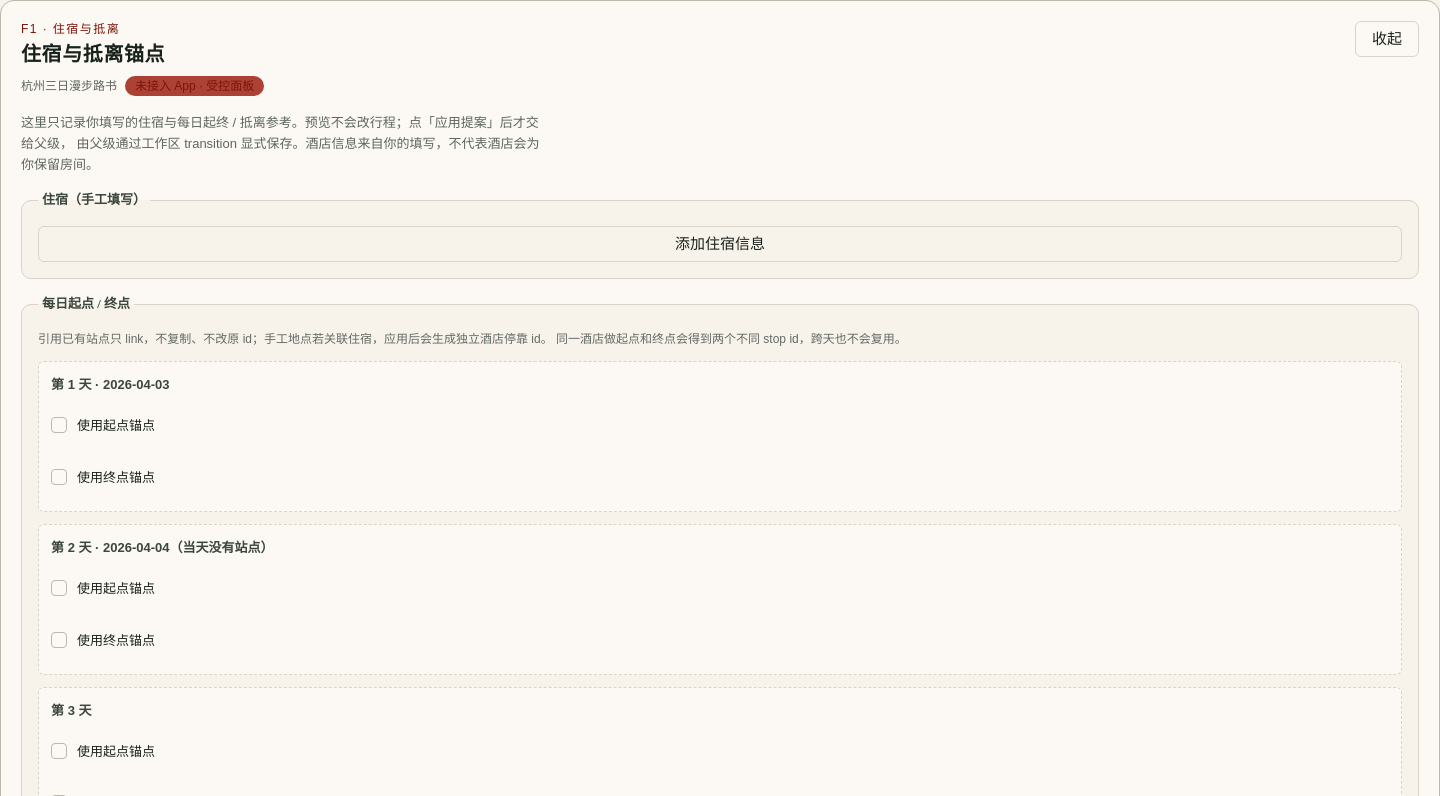
AnchorsPanel：预览 / 应用 / 取消 › 修改输入后旧预览清空，应用按钮重新禁用
This screenshot has width=1440, height=796.
Click the button "添加住宿信息" at (720, 244), box [38,226,1402,262]
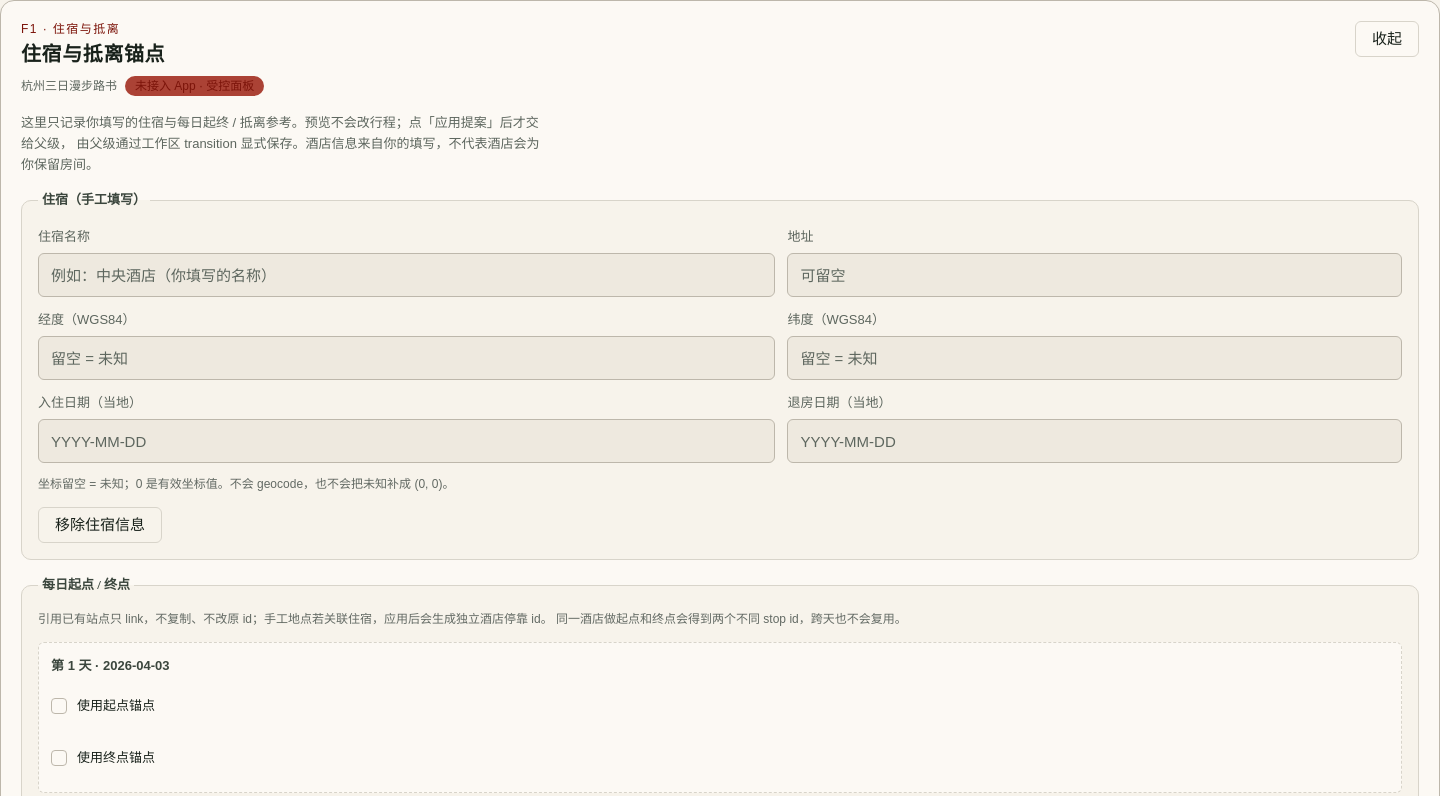
Type "中央酒店" into the field labelled "住宿名称" at (407, 275), box [38,253,776,297]
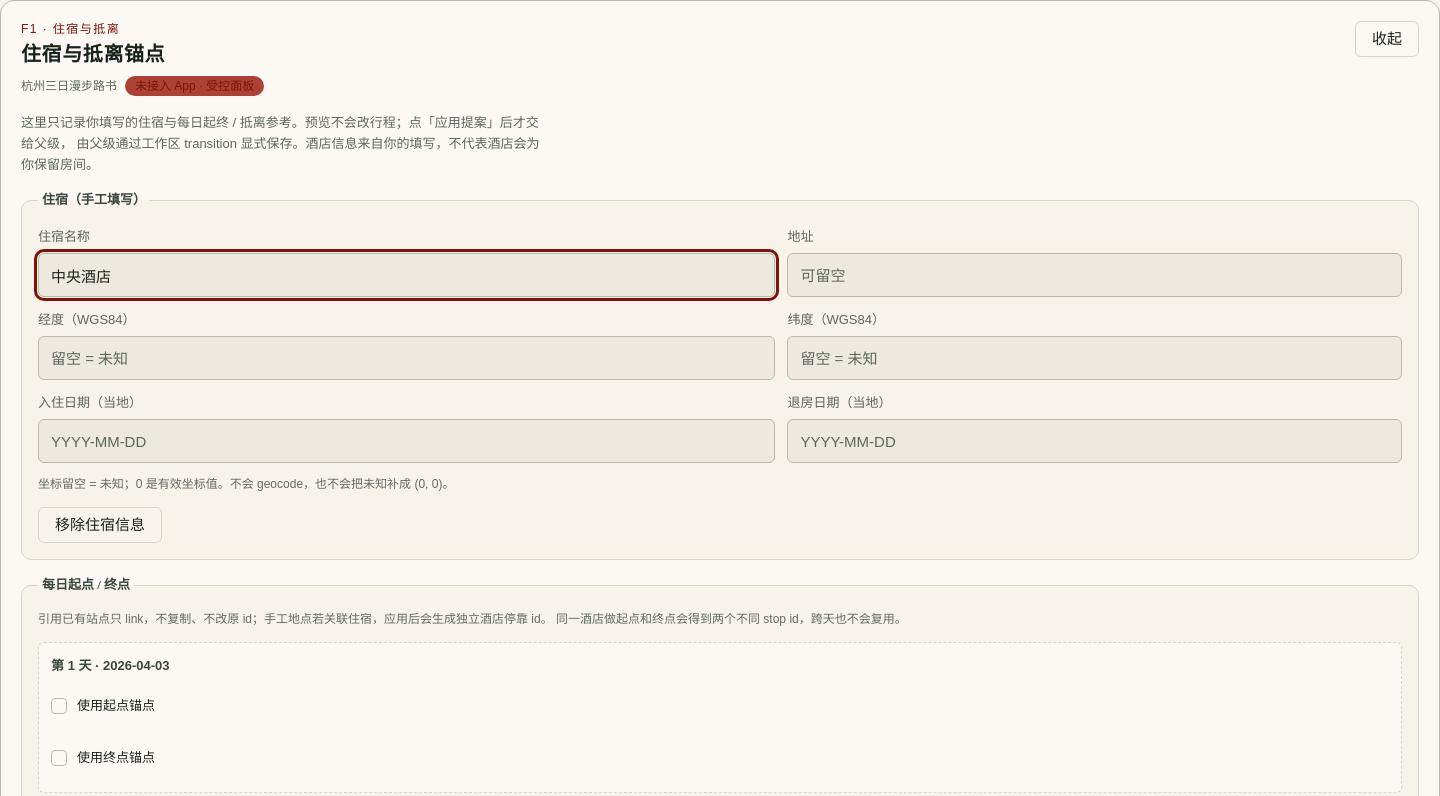
Type "2026-04-03" into the field labelled "入住日期（当地）" at (407, 441), box [38,419,776,463]
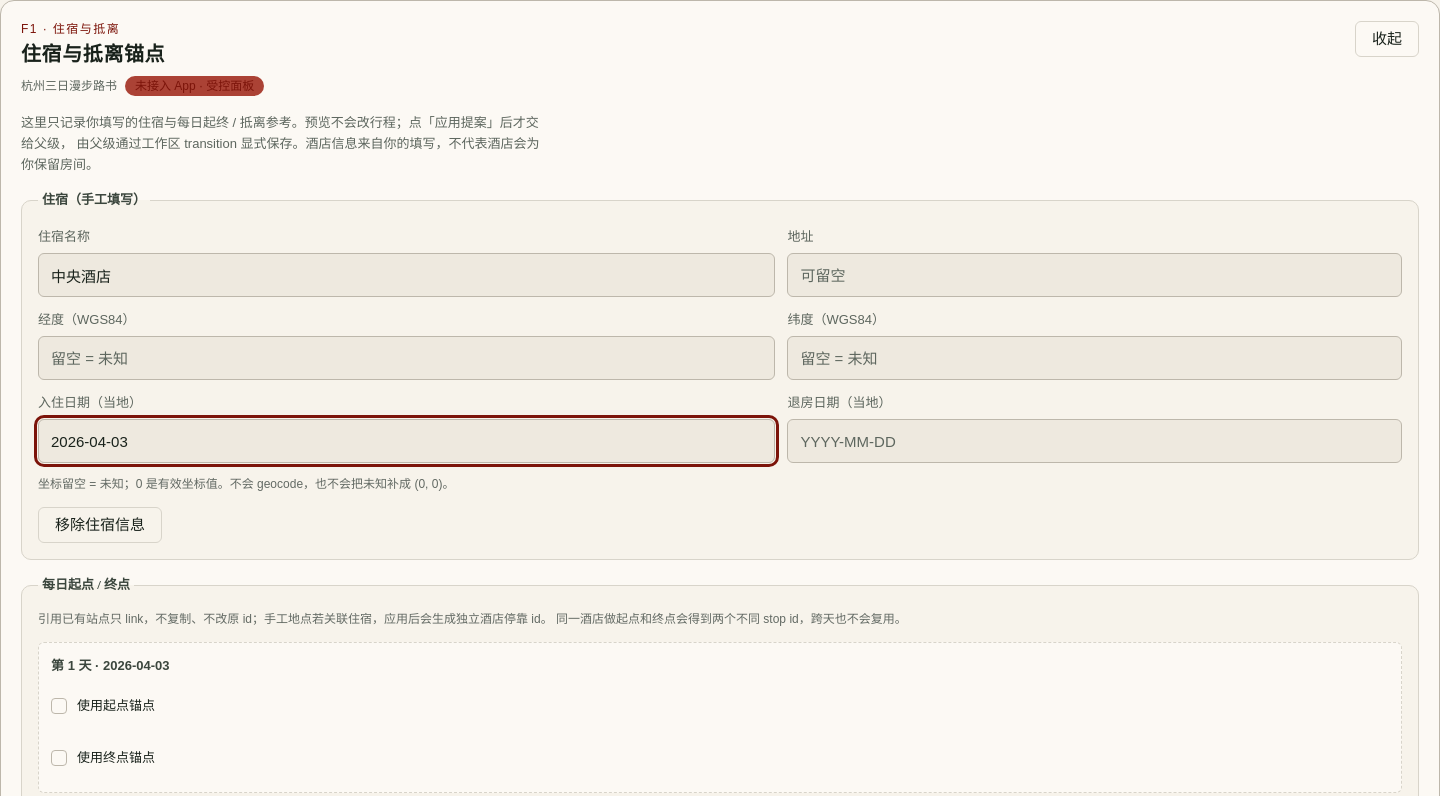
Type "2026-04-05" into the field labelled "退房日期（当地）" at (1095, 441), box [788,419,1402,463]
(page scrolled)
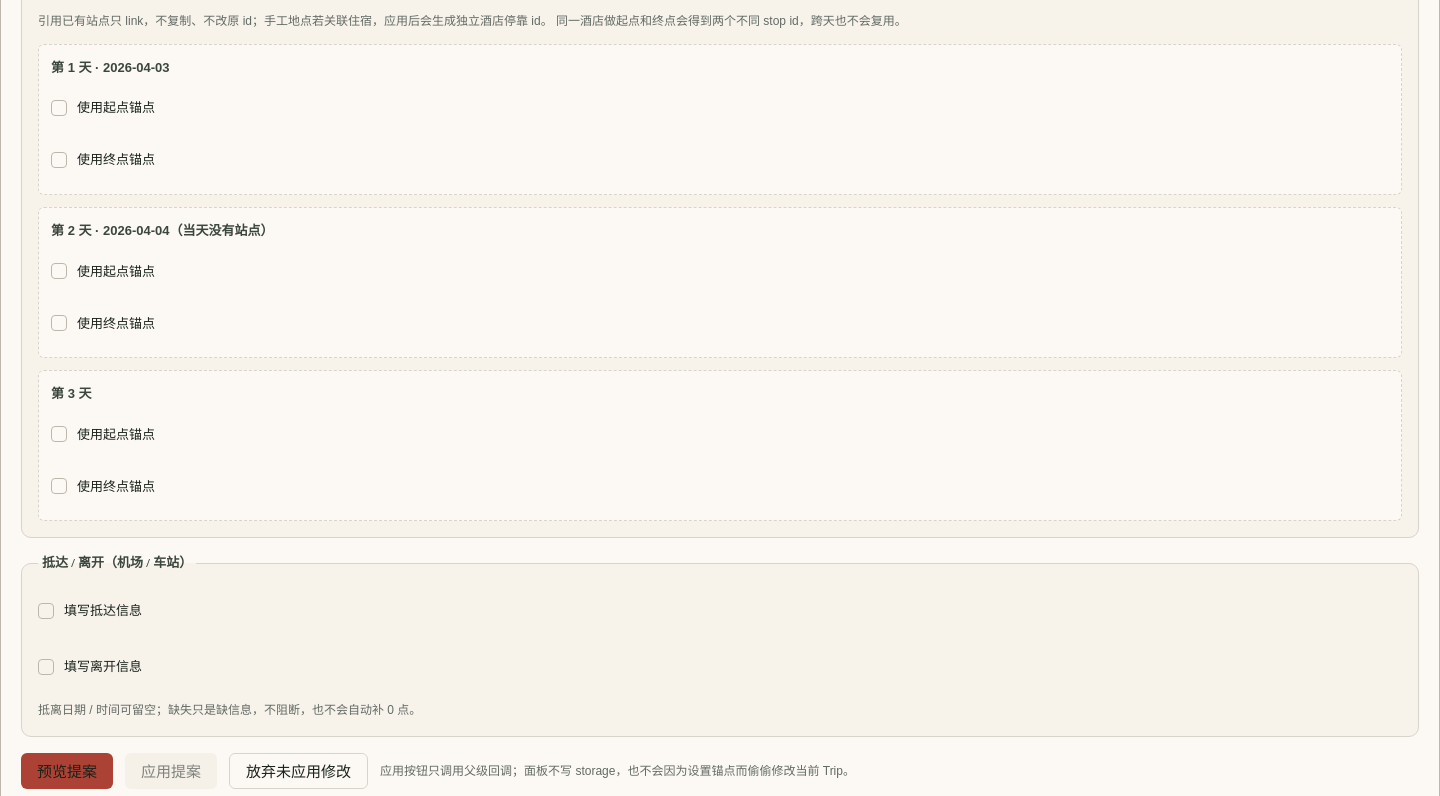
Click the button "预览提案" at (67, 771), box [21,753,113,789]
(page scrolled)
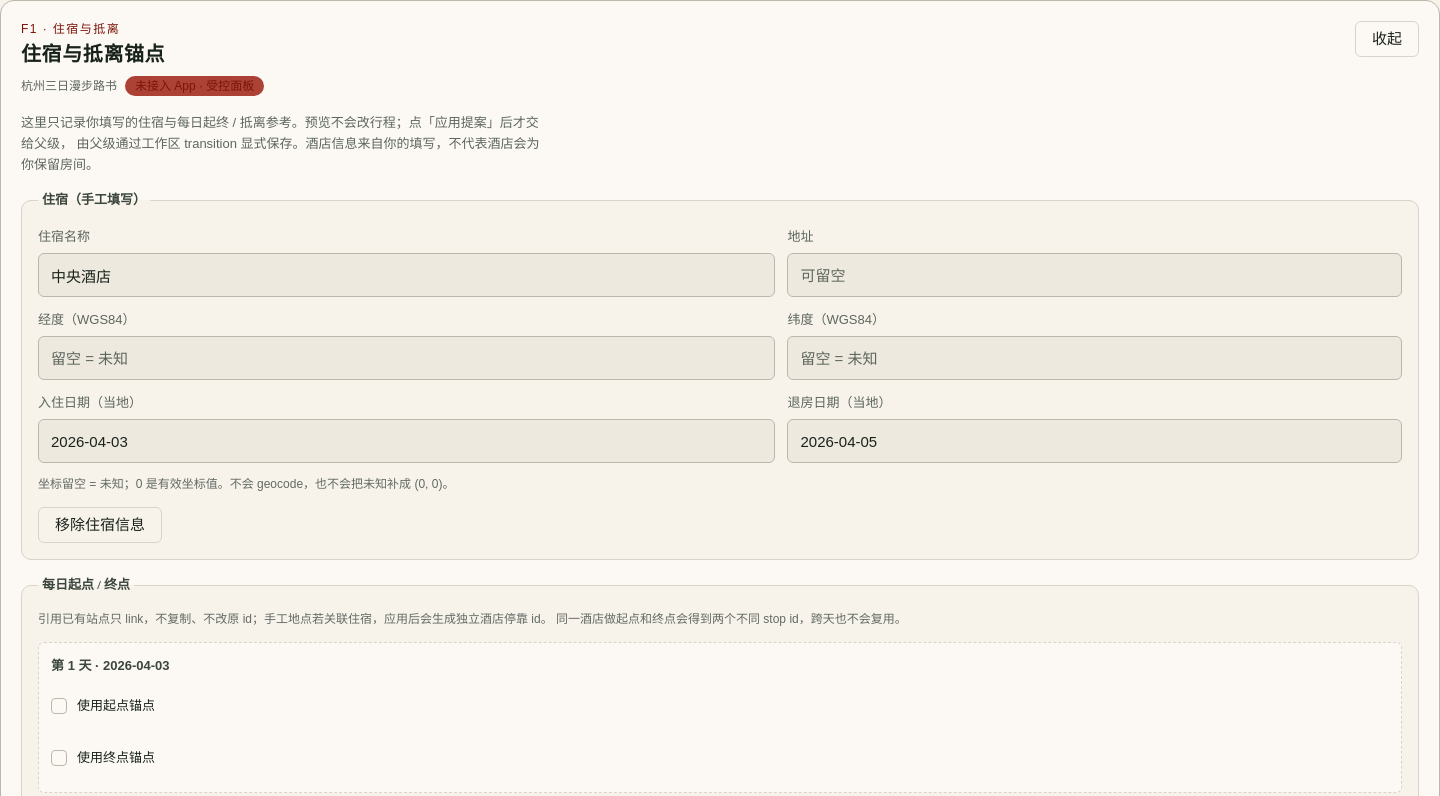
Type "（改）" into the field labelled "住宿名称" at (407, 275), box [38,253,776,297]
(page scrolled)
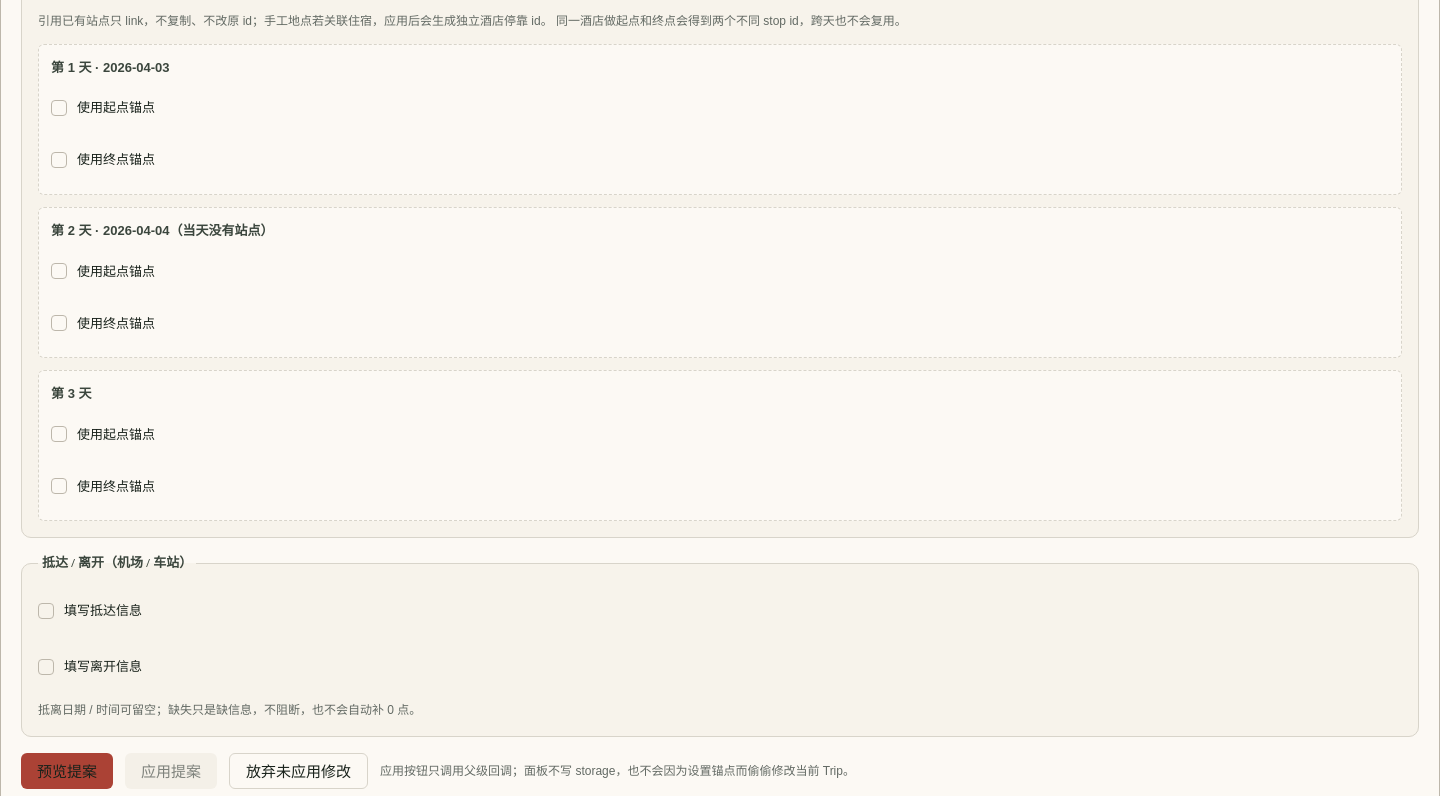
Check: the button "应用提案" is disabled, box [125,753,217,789]
